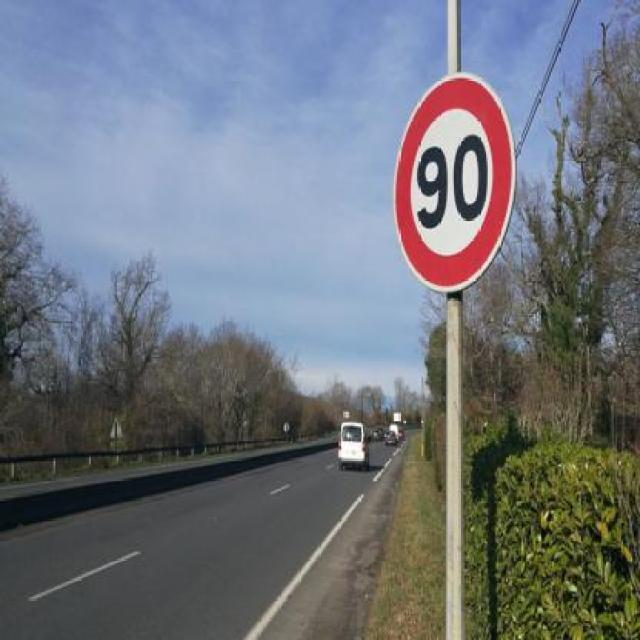Ograniczenie predkosci do 90: (391, 78, 514, 290)
